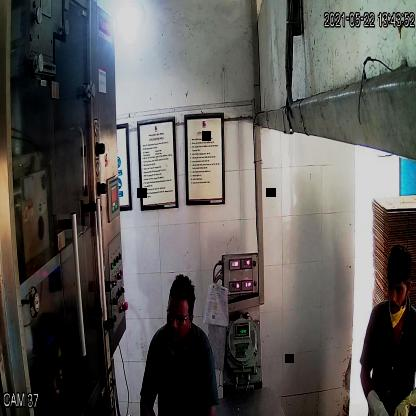goggles: (165, 305, 195, 326)
no_goggles: (386, 277, 409, 299)
